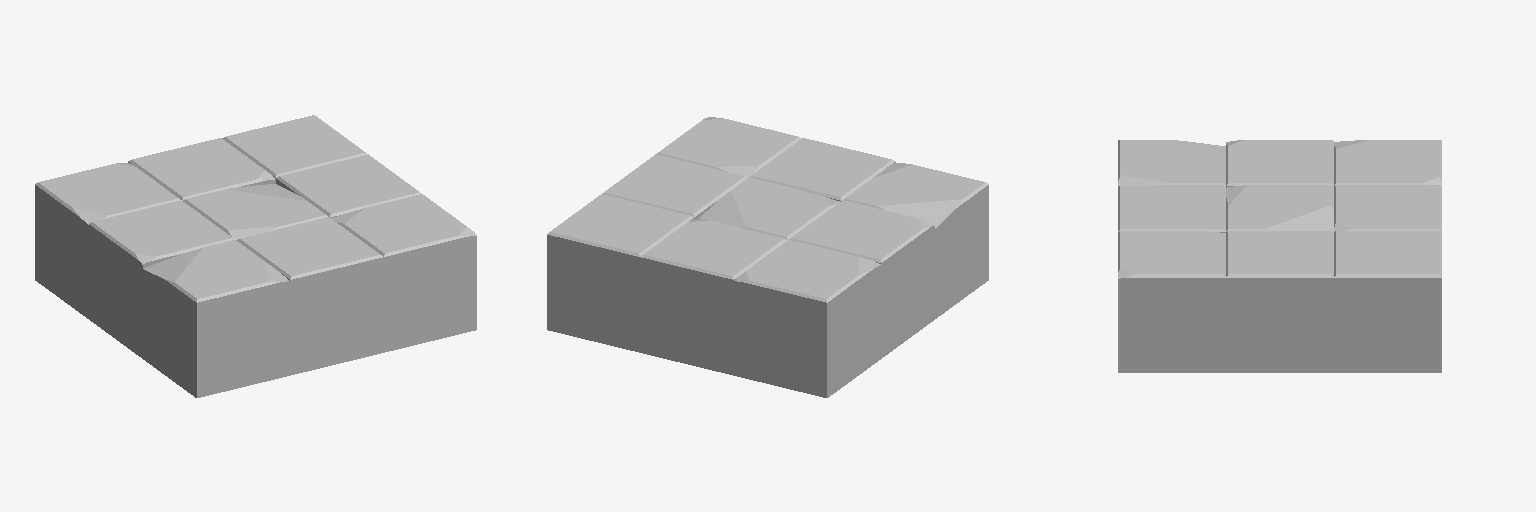
Rendered from tiles-floor.obj.
The picture shows the model from 3 angles: view 1: azimuth 30°, elevation 25°; view 2: azimuth 150°, elevation 25°; view 3: azimuth 270°, elevation 25°; orthographic projection.
Visible parts, largest first — view 1: Cube.009; view 2: Cube.009; view 3: Cube.009.
Boxes of the visible parts, x1,y1,x2,y2 form: Cube.009: [35, 115, 476, 397]; Cube.009: [547, 117, 988, 397]; Cube.009: [1118, 140, 1441, 372].
Bounding box in the file's own units: 6 × 2 × 6.